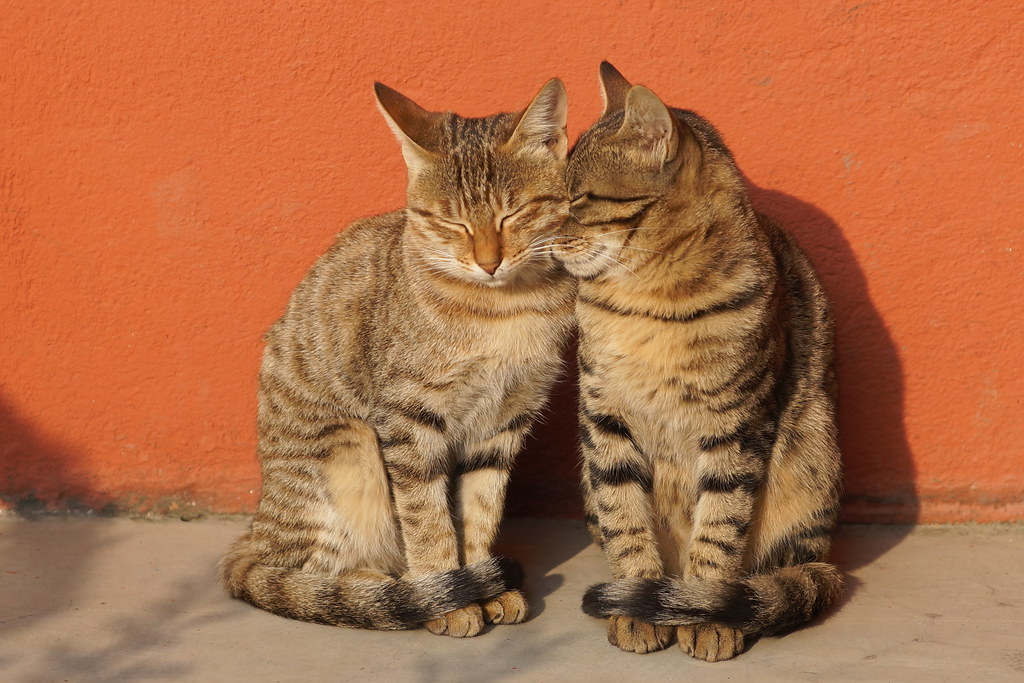cat: (217, 71, 574, 639), (551, 57, 872, 674)
